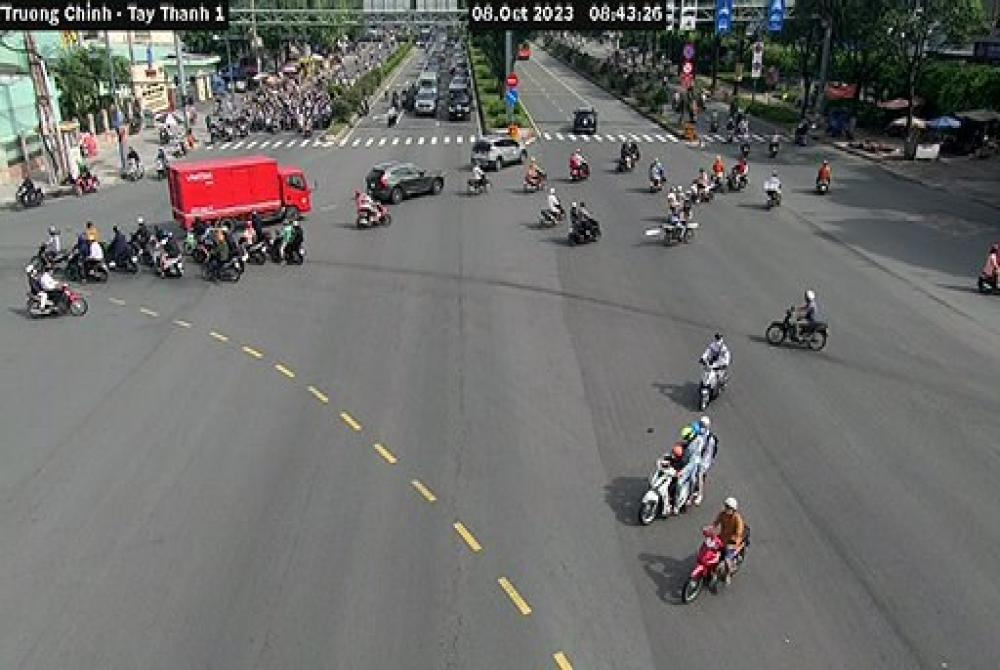truck: (166, 155, 312, 244)
